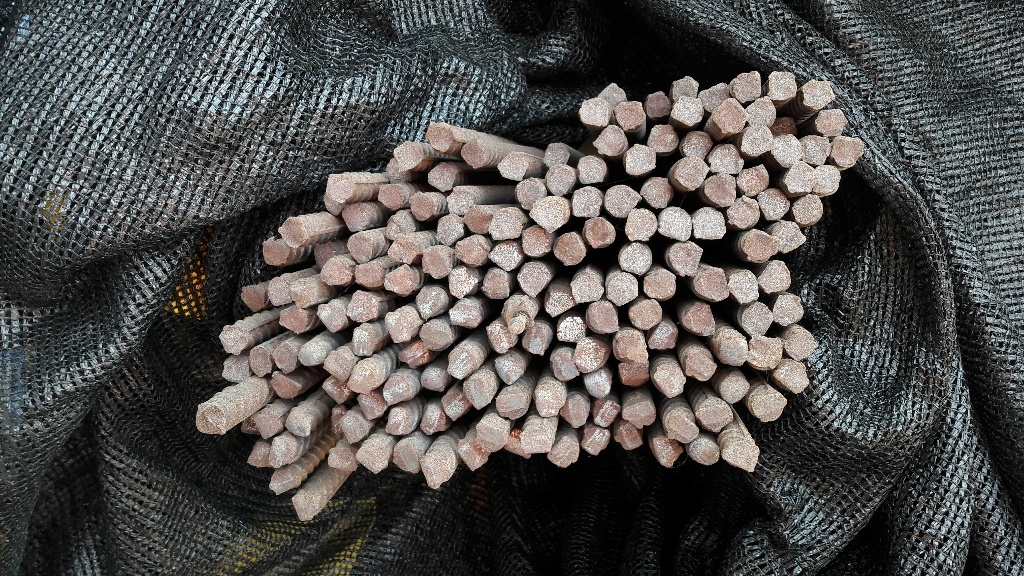dipstick: (612, 330, 650, 362), (651, 436, 689, 468), (554, 232, 587, 268), (752, 386, 786, 420), (692, 208, 727, 241), (530, 198, 566, 230), (194, 403, 228, 436), (675, 157, 708, 191), (693, 269, 728, 301), (728, 269, 760, 304), (669, 241, 700, 277), (625, 208, 658, 241), (605, 184, 637, 218), (463, 373, 493, 409), (653, 363, 685, 396), (583, 217, 616, 249), (714, 98, 747, 130), (742, 232, 776, 263), (622, 145, 658, 174), (478, 413, 505, 451), (737, 164, 769, 196), (758, 188, 790, 220), (774, 221, 806, 253), (748, 337, 780, 369), (831, 134, 862, 167), (704, 175, 737, 206), (659, 208, 692, 239), (684, 303, 715, 336), (576, 338, 606, 372), (569, 275, 603, 305), (725, 443, 759, 473), (617, 243, 652, 272), (800, 79, 835, 108), (697, 402, 733, 430), (421, 245, 452, 277), (684, 349, 715, 381), (623, 398, 656, 428), (665, 411, 698, 441), (643, 270, 676, 300), (741, 306, 774, 336), (593, 125, 627, 154), (709, 145, 744, 173), (728, 198, 759, 229), (760, 261, 791, 292), (550, 347, 579, 380), (490, 209, 520, 240), (589, 301, 619, 332), (607, 274, 637, 305), (774, 295, 804, 326), (482, 269, 511, 301), (786, 163, 815, 195), (421, 452, 449, 485), (579, 99, 612, 127), (393, 440, 419, 475), (433, 215, 463, 245), (641, 178, 671, 208), (785, 330, 815, 360), (648, 124, 679, 153), (732, 71, 761, 102), (689, 438, 720, 467), (383, 309, 411, 341), (420, 321, 452, 349), (680, 129, 712, 157), (488, 243, 521, 270), (416, 287, 446, 316), (324, 348, 353, 378), (494, 353, 523, 383), (549, 438, 579, 467), (615, 420, 644, 450), (514, 179, 544, 208), (801, 134, 830, 164), (746, 97, 776, 126), (774, 135, 803, 165), (516, 263, 547, 291), (358, 441, 386, 472), (619, 361, 650, 389), (521, 226, 549, 257), (673, 97, 704, 125), (742, 127, 773, 155), (792, 195, 823, 223), (449, 265, 476, 297), (424, 122, 453, 151), (261, 238, 290, 267), (347, 292, 376, 321), (572, 187, 601, 216), (699, 82, 728, 111), (768, 71, 797, 100), (450, 299, 480, 327), (253, 410, 283, 438), (383, 268, 414, 295), (535, 384, 562, 415), (442, 388, 467, 421), (496, 152, 525, 180), (315, 301, 344, 329), (484, 322, 512, 351), (522, 426, 551, 454), (555, 316, 584, 344), (719, 335, 746, 365), (454, 238, 485, 264), (269, 372, 300, 398), (629, 301, 660, 327), (783, 361, 809, 392), (218, 326, 246, 354), (386, 405, 414, 433), (496, 392, 524, 420), (545, 166, 573, 194), (321, 258, 350, 285), (522, 325, 549, 354), (816, 109, 845, 136), (720, 376, 749, 403), (278, 308, 308, 334), (219, 354, 249, 380), (615, 102, 645, 128), (273, 342, 297, 374), (563, 394, 587, 426), (341, 202, 368, 230), (464, 206, 491, 234), (545, 290, 572, 318), (584, 370, 612, 397), (577, 156, 605, 183), (346, 232, 372, 261), (247, 347, 272, 377), (399, 342, 429, 367), (325, 176, 356, 200), (428, 163, 455, 190), (447, 187, 474, 214), (280, 218, 307, 245), (394, 141, 420, 169), (388, 237, 416, 263), (356, 392, 384, 418), (329, 445, 355, 473), (377, 185, 410, 207), (351, 326, 374, 357), (421, 402, 444, 433), (285, 411, 312, 437), (383, 379, 411, 404), (353, 260, 377, 289), (585, 428, 609, 457), (505, 305, 528, 335), (645, 91, 671, 117), (543, 142, 570, 167), (651, 324, 676, 351), (240, 284, 268, 308), (446, 351, 470, 379), (247, 443, 271, 471), (291, 279, 314, 308), (322, 377, 348, 402), (293, 494, 319, 519), (815, 167, 839, 194), (409, 192, 432, 220), (297, 345, 323, 369), (596, 399, 620, 425), (349, 368, 374, 392), (340, 415, 365, 439), (458, 441, 480, 468), (269, 471, 297, 492), (461, 142, 484, 167), (422, 367, 444, 393), (672, 77, 698, 99), (270, 439, 290, 467), (387, 213, 410, 237), (269, 279, 289, 306), (506, 432, 526, 459), (603, 82, 626, 105), (386, 158, 407, 183), (772, 114, 797, 134), (322, 192, 343, 215), (312, 244, 332, 267), (240, 416, 259, 438), (330, 407, 344, 433)
